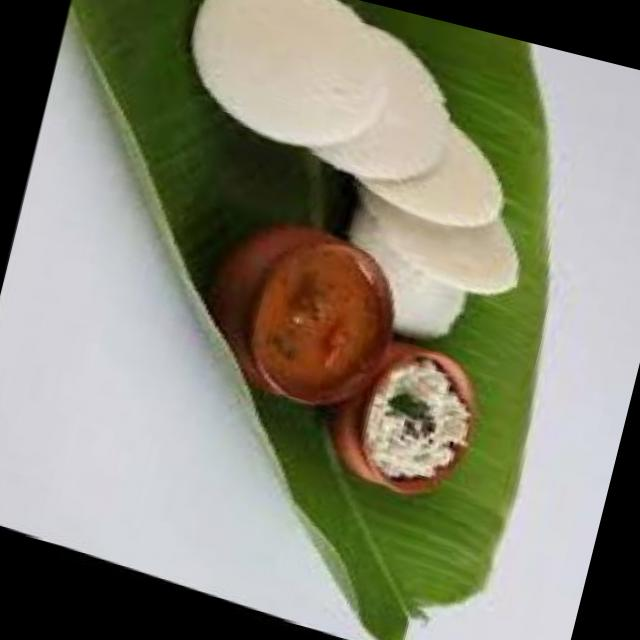idli: (170, 0, 405, 174), (294, 18, 464, 200), (338, 172, 534, 308), (344, 98, 518, 241), (326, 202, 479, 352)
